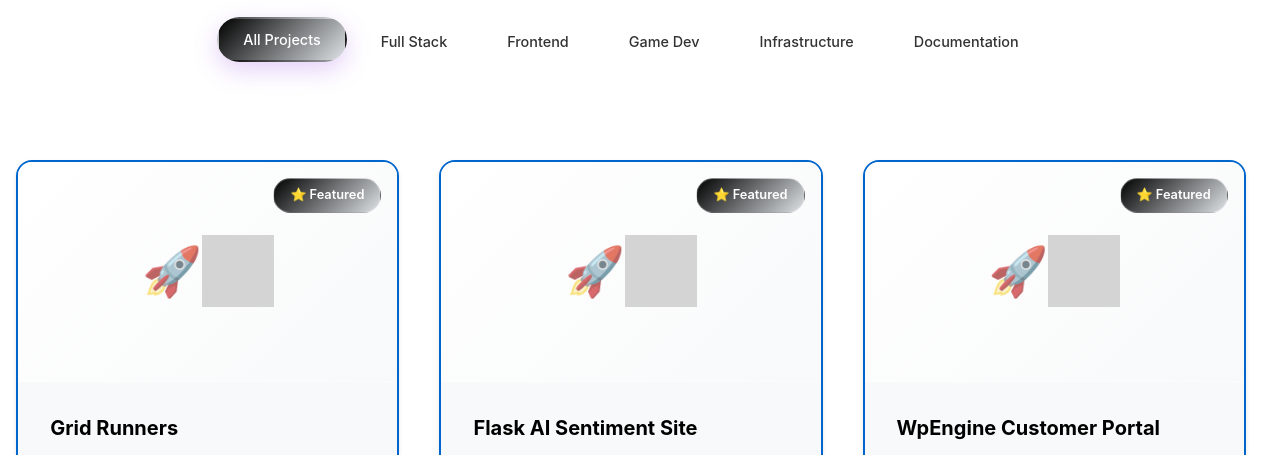
it: Projects Component › filters projects when filter button is clicked
// Click frontend filter
Click the button "Frontend": (538, 41) [481,19,595,64]
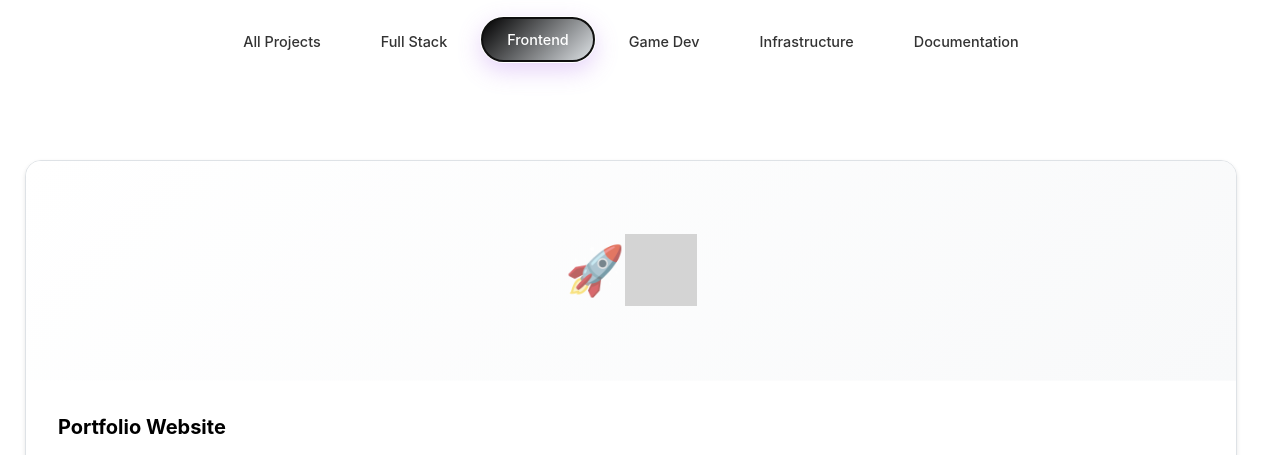
Expected: the heading "Portfolio Website" is shown, [58,415,226,439]
Expected: the heading "Grid Runners" is gone
